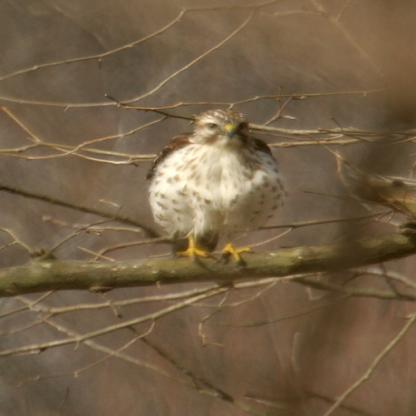bird: (144, 109, 286, 265)
